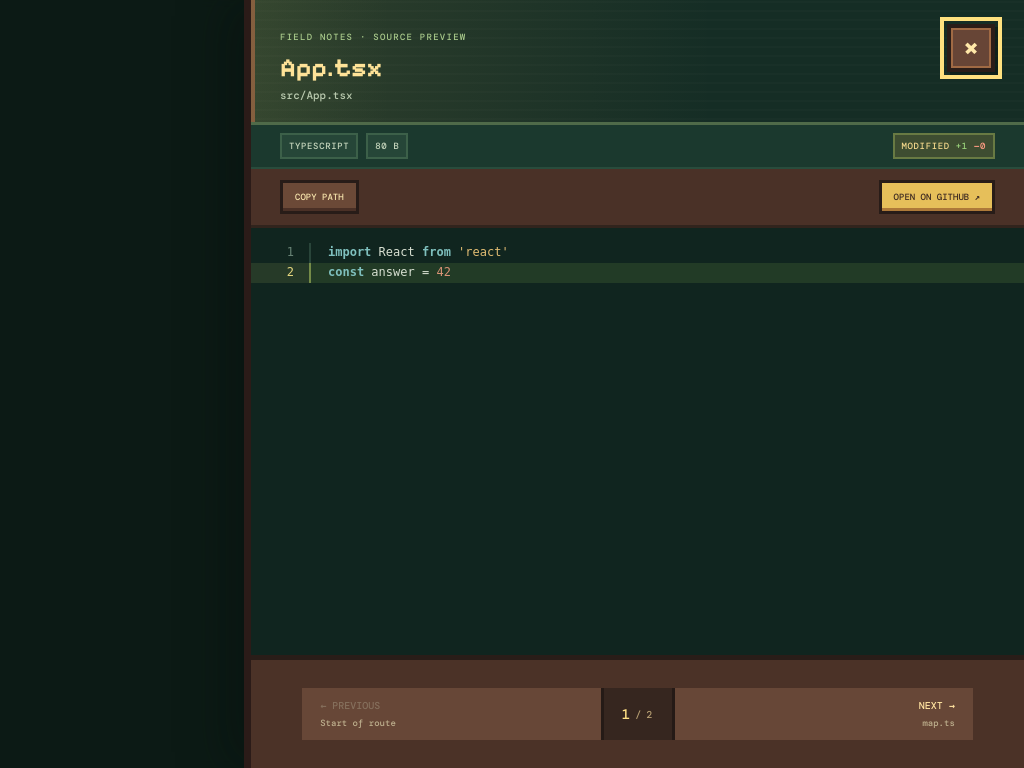
SourcePreview › loads highlighted source, marks changed lines, and navigates the reading route
The width and height of the screenshot is (1024, 768).
Expected: the element named "Source code for src/App.tsx" is shown, [251,243,1023,283]
Expected: the text with class "source-line-number" reads "2", [287,265,294,279]
Click the button with aria-label "Preview next recommended file". click: (937, 706)
box: [674,688,973,740]
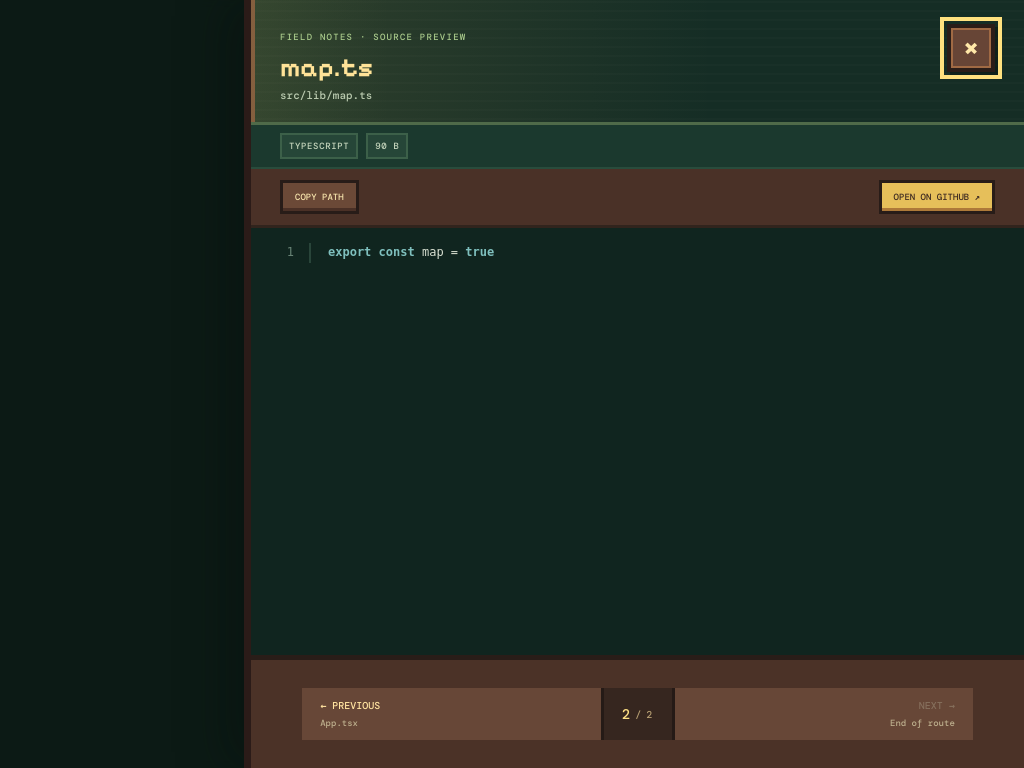
Now the element named "Source code for src/lib/map.ts" is shown, box [251,243,494,263]
